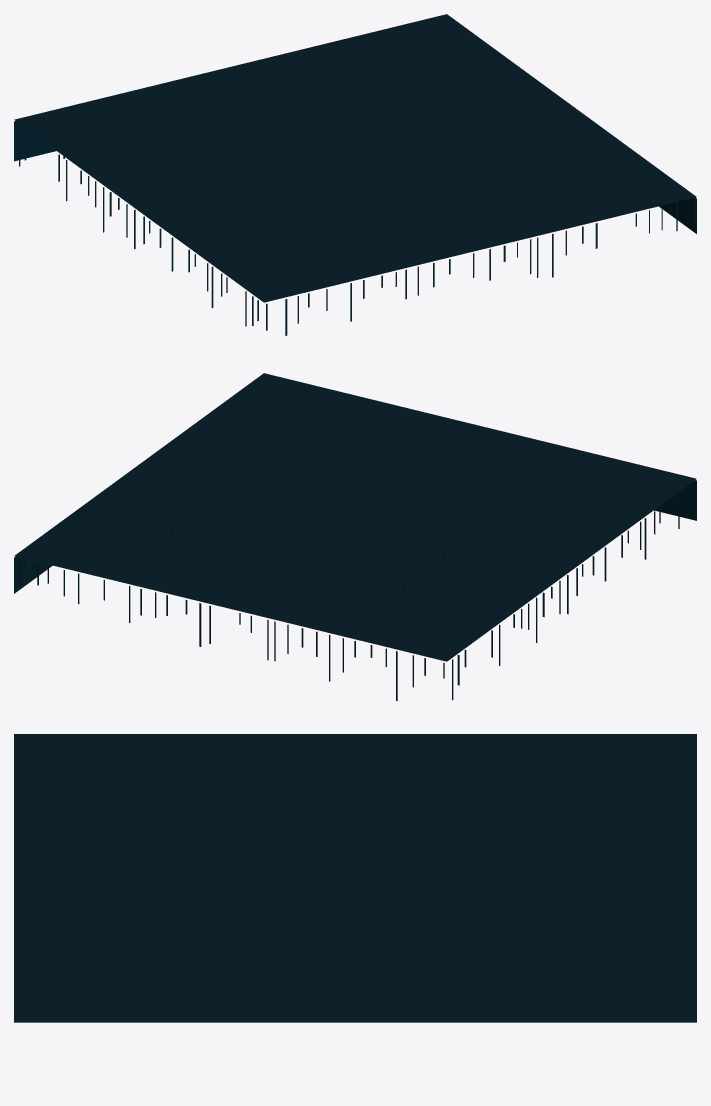
Rendered from floor_glass_8.glb.
3 views of the same model, one above another, from view 1: azimuth 30°, elevation 25°; view 2: azimuth 150°, elevation 25°; view 3: azimuth 270°, elevation 25° (orthographic). The views are drawn at different scales.
Parts seen in each view (by area): view 1: slab_glass, floor_glass_streaks_hang, floor_glass_skirt, slab_seams; view 2: slab_glass, floor_glass_streaks_hang, floor_glass_skirt, slab_seams; view 3: slab_glass.
Part boxes in pixels (x1,y1,x2,y2): slab_glass: (14,14,696,302); floor_glass_streaks_hang: (16,121,695,335); floor_glass_skirt: (14,121,696,233); slab_seams: (84,49,609,272); slab_glass: (14,373,696,661); floor_glass_streaks_hang: (18,481,694,700); floor_glass_skirt: (14,480,696,593); slab_seams: (84,401,609,631); slab_glass: (14,734,696,1022).
Size of the model in its own units: 8.03 by 0.9411 by 8.
